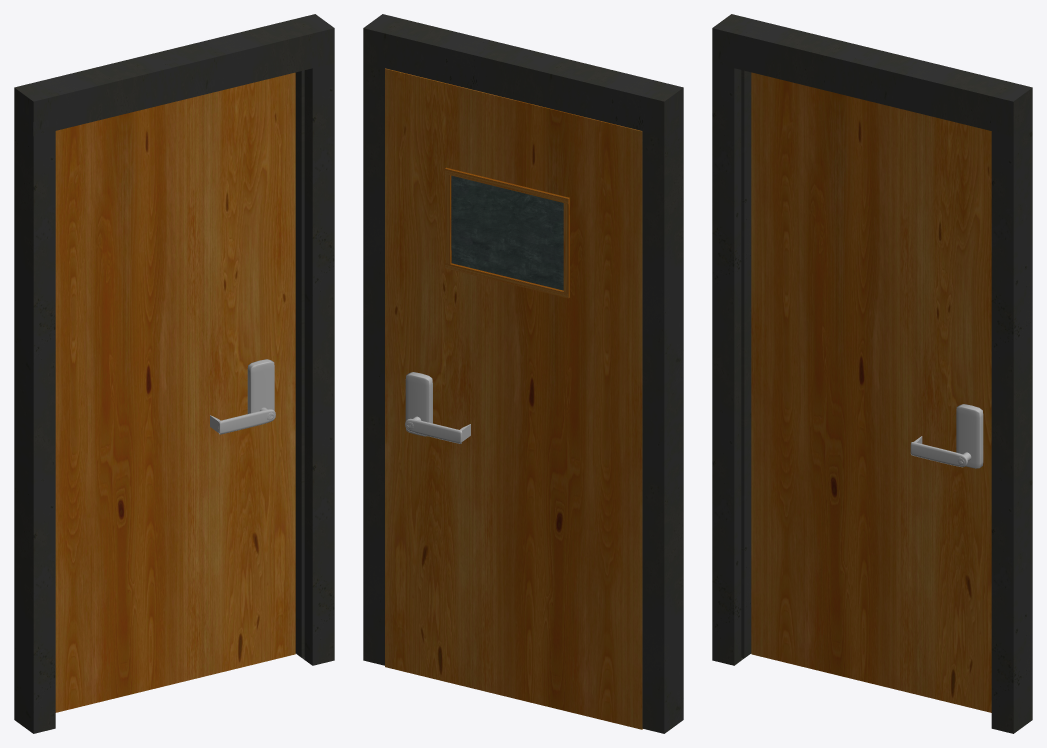
Rendered from door shape 2(b).fbx.
3 views of the same model, side by side, from view 1: azimuth 30°, elevation 25°; view 2: azimuth 150°, elevation 25°; view 3: azimuth 330°, elevation 25° (orthographic).
Visible parts, largest first — view 1: Plane, Cube.001, Cube.002, Plane.003; view 2: Plane, Cube.001, Cube.004, Cube, Plane.001; view 3: Plane, Cube.001, Cube.002, Plane.003.
Boxes of the visible parts, bbox=[...] form: Plane: bbox=[55, 72, 295, 712]; Cube.001: bbox=[14, 14, 334, 733]; Cube.002: bbox=[247, 359, 274, 413]; Plane.003: bbox=[218, 409, 275, 434]; Plane: bbox=[385, 68, 642, 729]; Cube.001: bbox=[363, 14, 683, 733]; Cube.004: bbox=[445, 167, 569, 298]; Cube: bbox=[405, 372, 432, 436]; Plane.001: bbox=[405, 418, 462, 443]; Plane: bbox=[751, 72, 991, 712]; Cube.001: bbox=[712, 14, 1032, 733]; Cube.002: bbox=[956, 404, 983, 468]; Plane.003: bbox=[910, 442, 967, 467].
Size of the model in its own units: 352 by 706 by 62.8.
4 materials, 3 textured.
